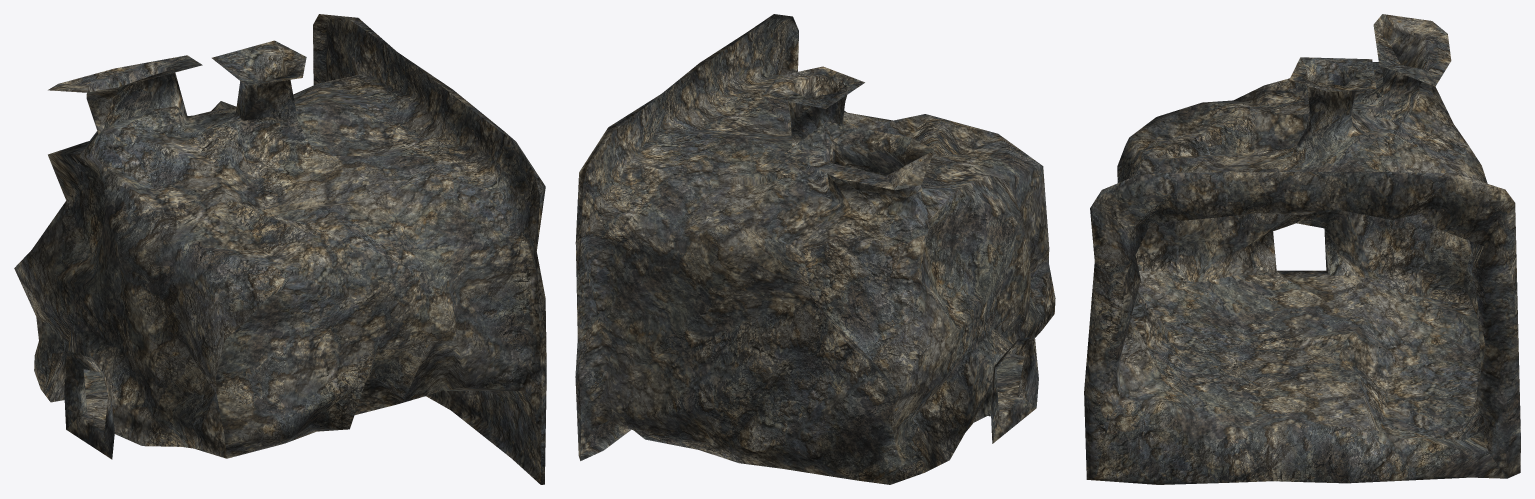
The model's file is Module15B_LOD2.fbx.
The picture shows the model from 3 angles, left to right: view 1: azimuth 30°, elevation 25°; view 2: azimuth 150°, elevation 25°; view 3: azimuth 270°, elevation 25°; orthographic projection. The views are drawn at different scales.
Visible parts, largest first — view 1: cave_el15B_1800:Group12213; view 2: cave_el15B_1800:Group12213; view 3: cave_el15B_1800:Group12213.
Part boxes in pixels (left/top/right/bottom): cave_el15B_1800:Group12213: left=14, top=14, right=546, bottom=484; cave_el15B_1800:Group12213: left=575, top=14, right=1055, bottom=484; cave_el15B_1800:Group12213: left=1084, top=14, right=1520, bottom=484.
Size of the model in its own units: 31.76 by 30.94 by 35.91.
